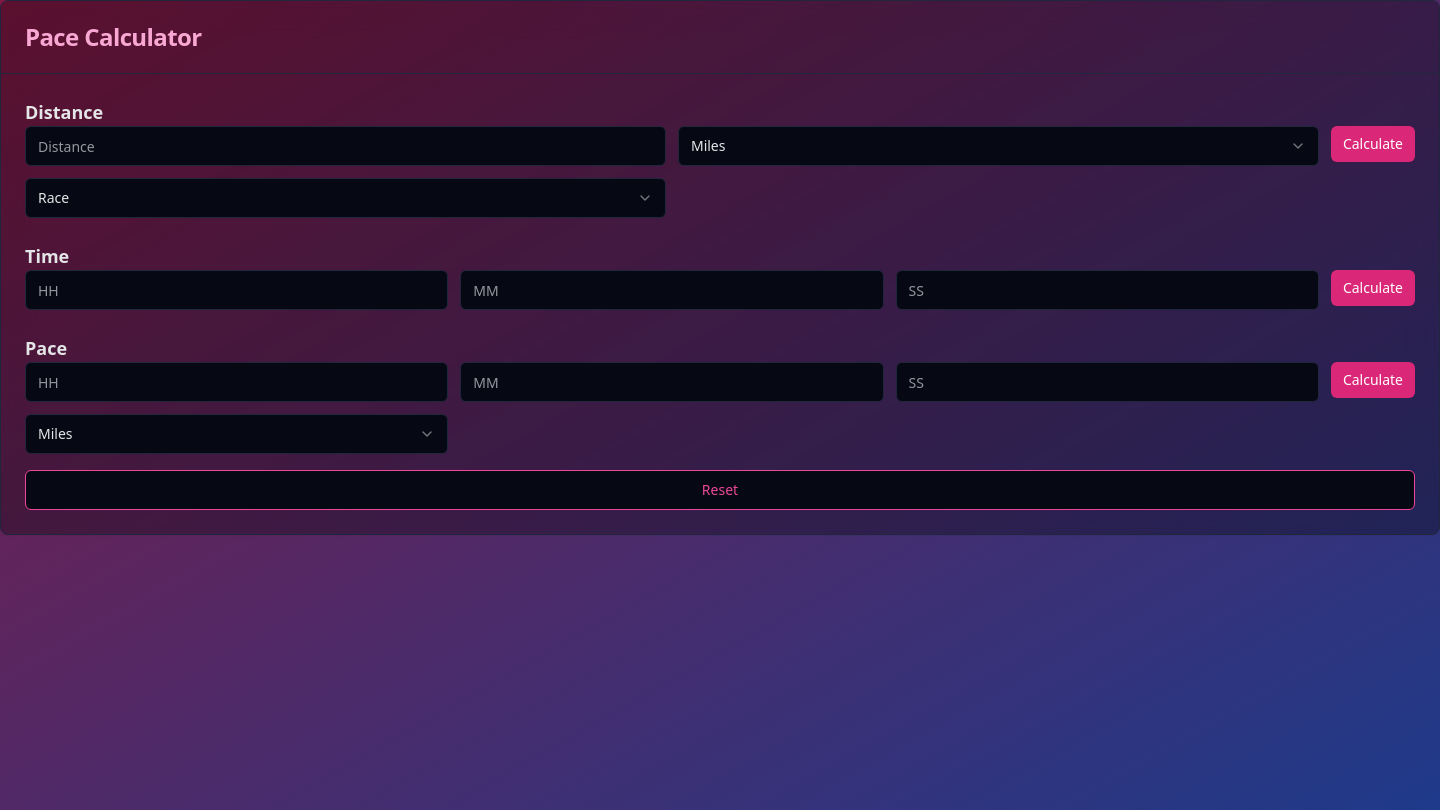
Test: Calculator › calculates time
Note: Set distance to 10 miles, pace to 5 minutes, and calculate time
Type "10" into the number field with placeholder "Distance" at (345, 146), box left=25, top=126, right=666, bottom=166
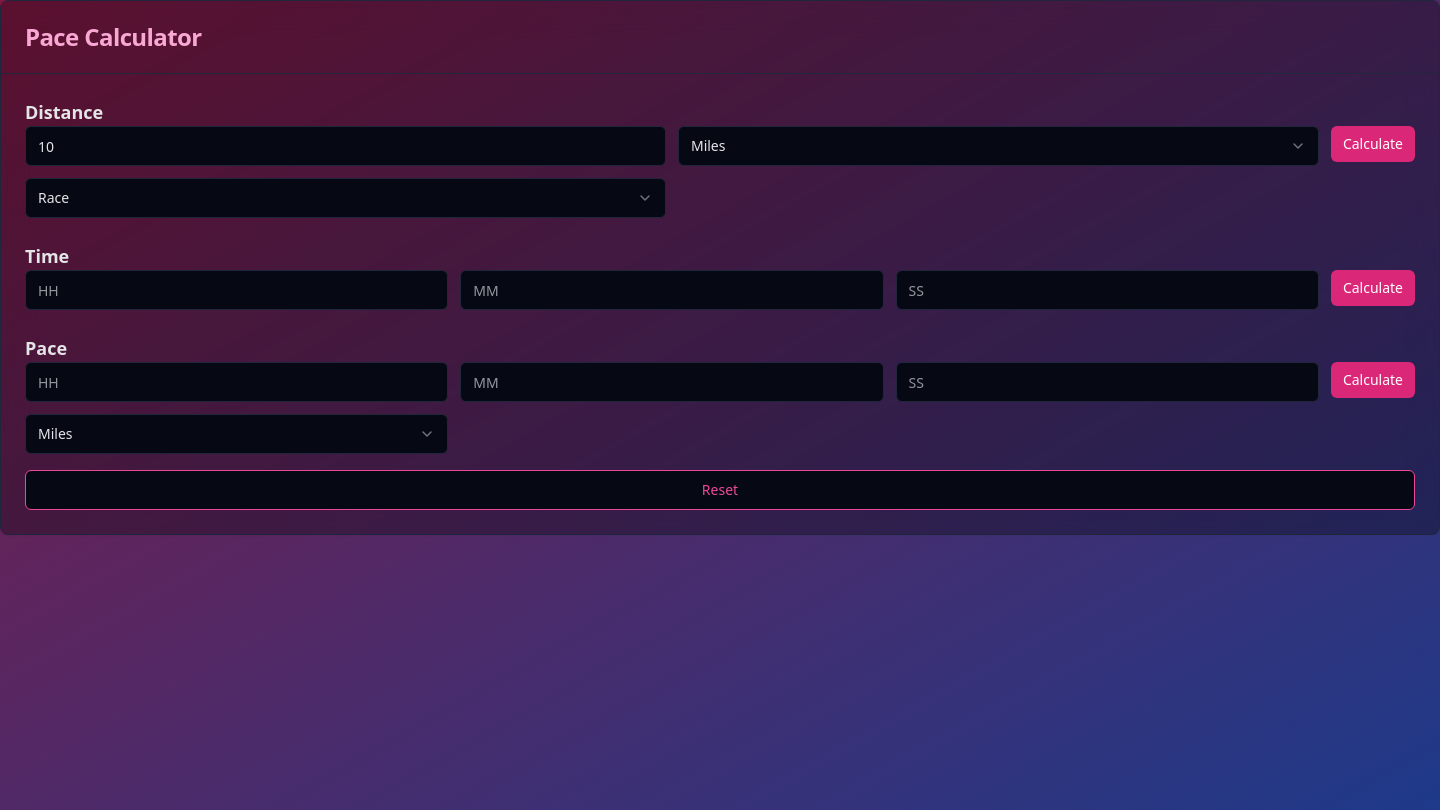
Type "5" into the 2nd number field with placeholder "MM" at (672, 382), box left=460, top=362, right=884, bottom=402
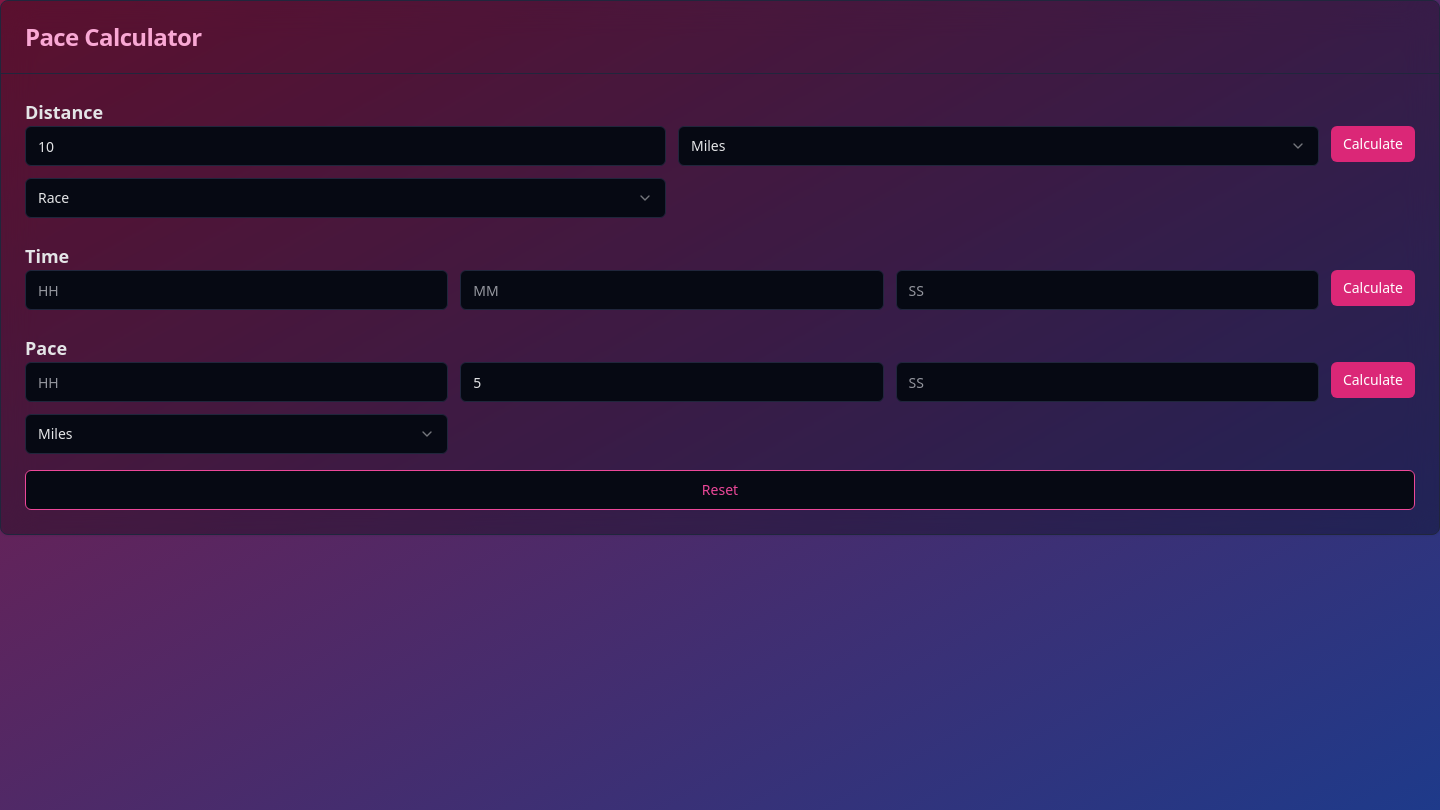
Click the 2nd button "Calculate" at (1373, 288), box left=1331, top=270, right=1415, bottom=306
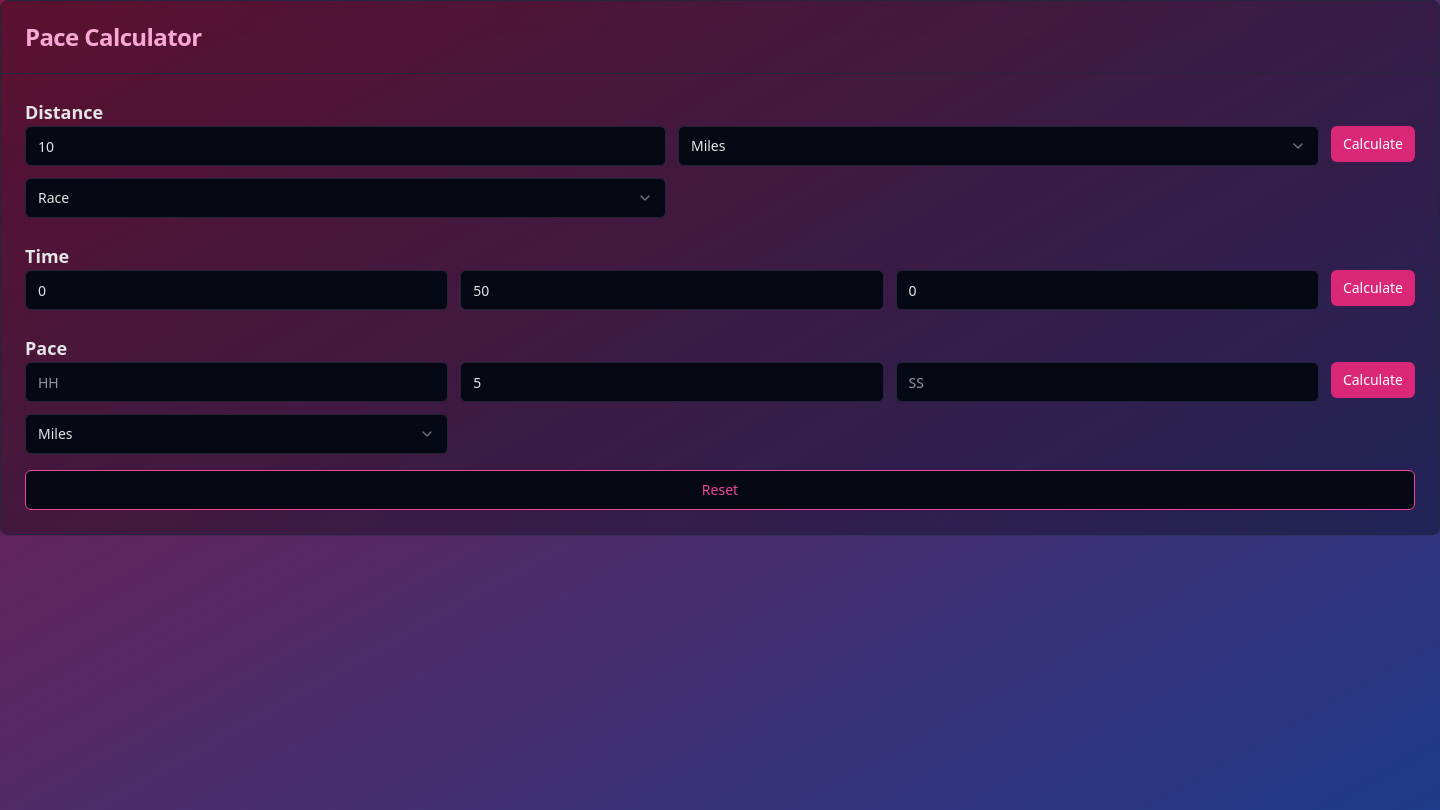
Result: the 3rd number field with placeholder "MM" holds "50" at left=460, top=270, right=884, bottom=310
